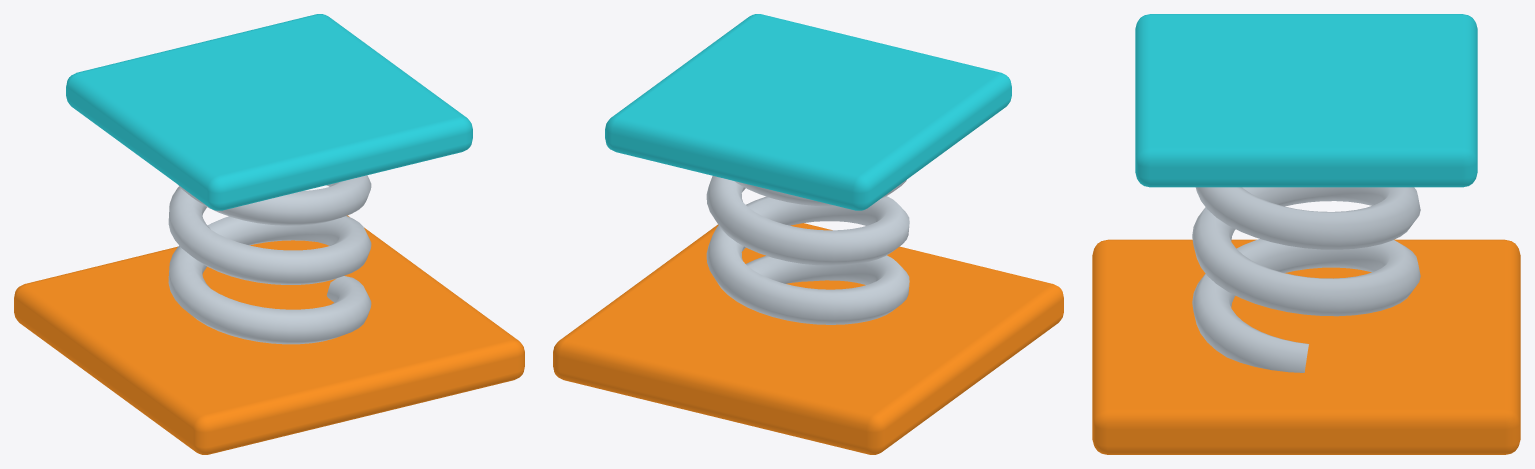
The picture shows the model from 3 angles, left to right: view 1: azimuth 30°, elevation 25°; view 2: azimuth 150°, elevation 25°; view 3: azimuth 270°, elevation 25°; orthographic projection. The views are drawn at different scales.
Visible parts, largest first — view 1: Base, Top, Coil; view 2: Base, Top, Coil; view 3: Base, Top, Coil.
Part boxes in pixels (x1,y1,x2,y2): Base: [14, 215, 524, 454]; Top: [66, 14, 472, 210]; Coil: [168, 175, 371, 344]; Base: [553, 223, 1063, 454]; Top: [605, 14, 1011, 210]; Coil: [706, 176, 909, 324]; Base: [1092, 239, 1520, 454]; Top: [1135, 14, 1477, 187]; Coil: [1192, 187, 1420, 372].
Bounding box in the file's own units: 1.4 × 1.04 × 1.4.
